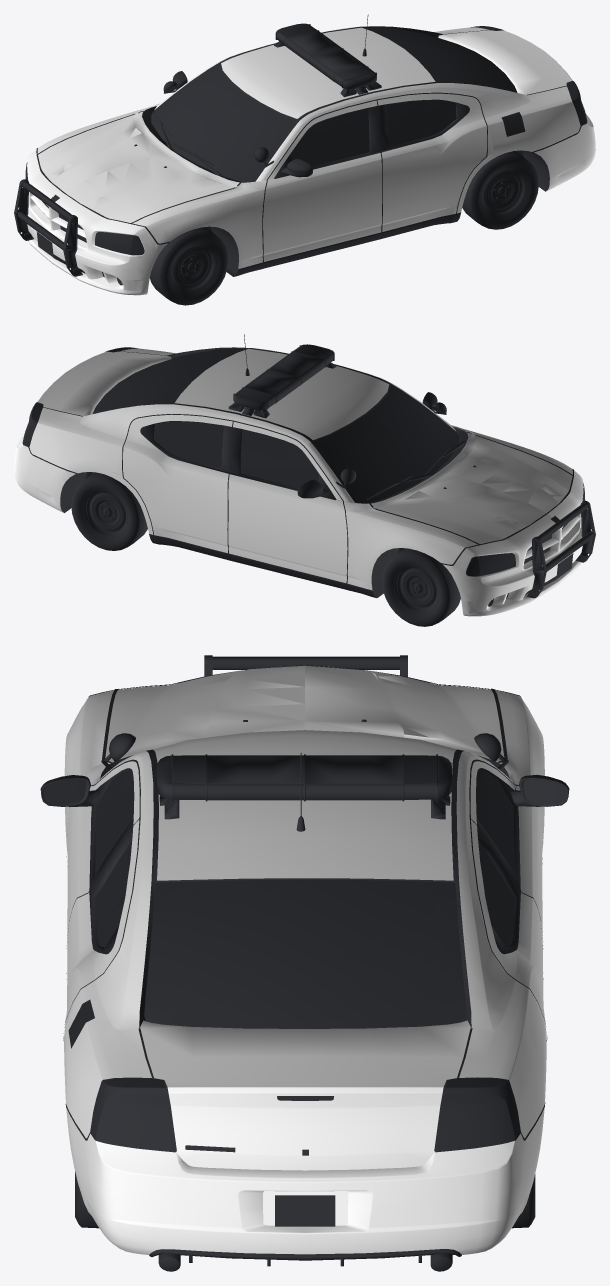
Rendered from policecar.glb.
3 renders of one model, top to bottom at view 1: azimuth 30°, elevation 25°; view 2: azimuth 150°, elevation 25°; view 3: azimuth 270°, elevation 25°, orthographic. The views are drawn at different scales.
Parts seen in each view (by area): view 1: policecar.006; view 2: policecar.006; view 3: policecar.006.
Boxes of the visible parts, x1,y1,x2,y2 form: policecar.006: (14,14,595,305); policecar.006: (14,334,595,626); policecar.006: (40,655,569,1271).
Bounding box in the file's own units: 0.5581 × 0.1985 × 0.2447.
Materials: 2 (2 with a texture image).
